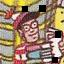waldo: (5, 8, 40, 43)
